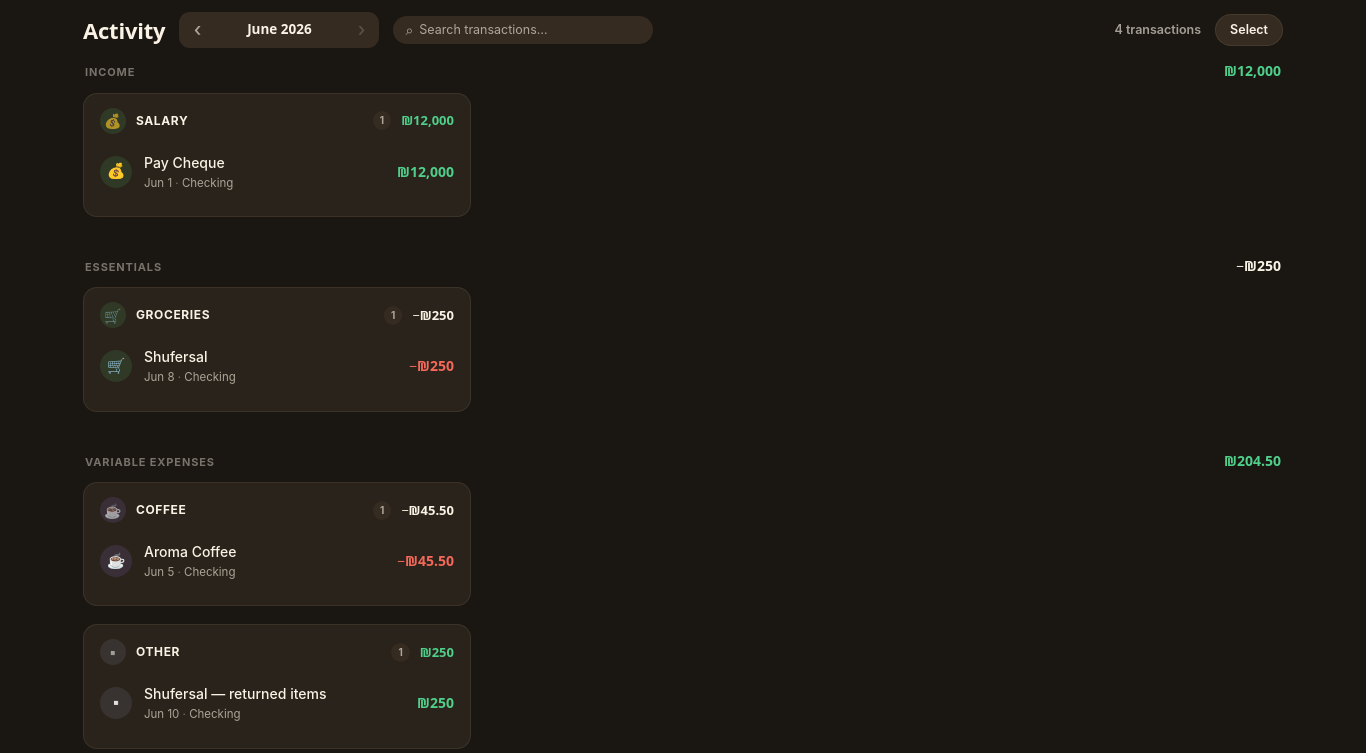
Test: ActivityView — refund linking › clicking Select reveals a batch toolbar and flips Select to Cancel
The image size is (1366, 753).
Click the button "Select" at (1249, 30), box [1215, 14, 1283, 46]
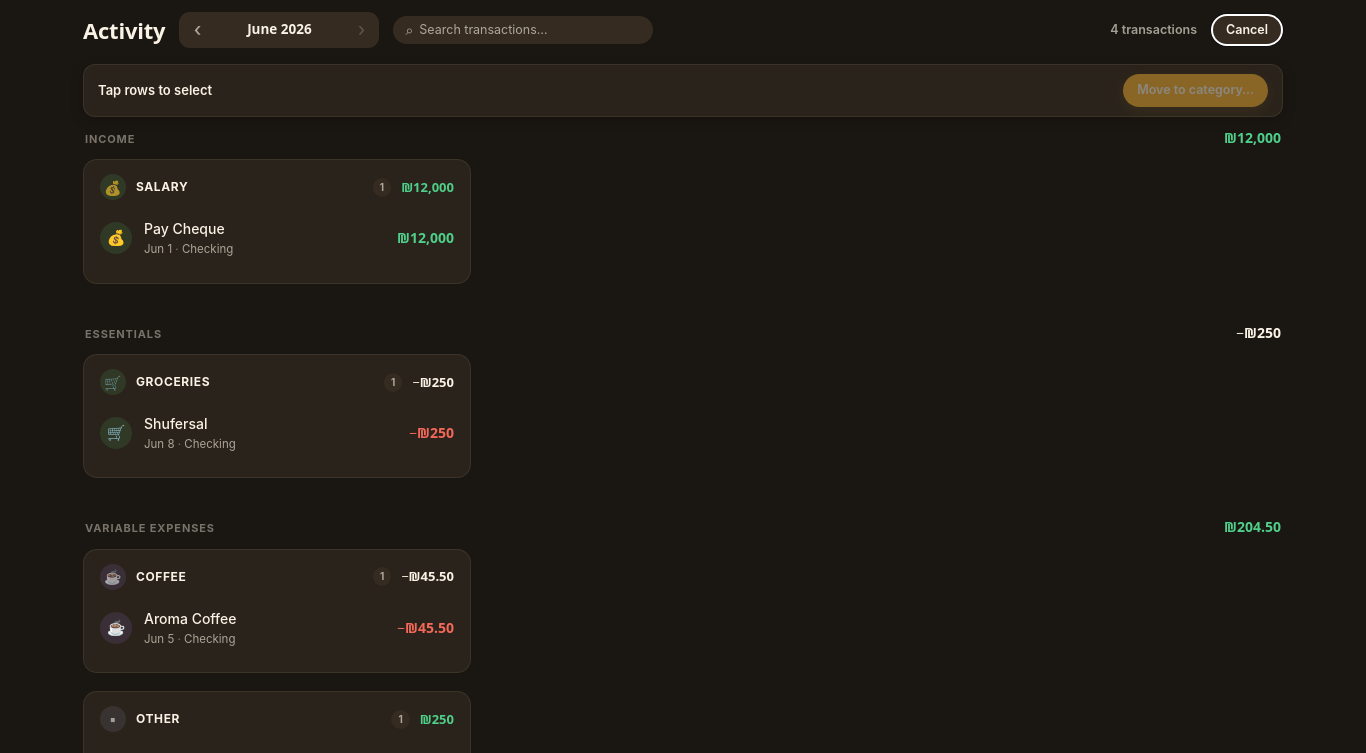
Check: the element with test id "batch-bar" is shown, box [83, 64, 1283, 117]
Check: the button "Cancel" is shown, box [1211, 14, 1283, 46]
